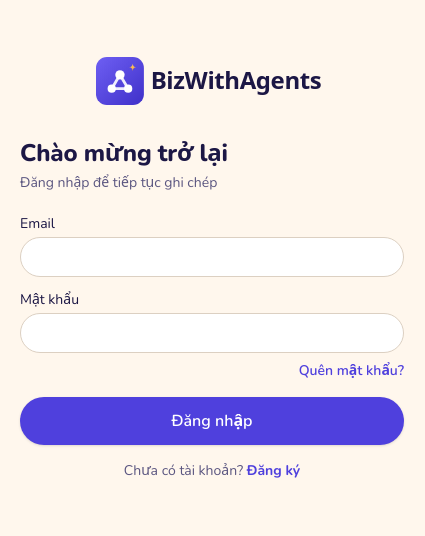
it: LoginPage › sai mật khẩu (2102) → thông điệp tiếng Việt + Mã tra cứu, ở lại trang
Type "u1@test.local" into the field labelled "Email". click: (212, 257)
box: top-left (20, 237), bottom-right (404, 277)
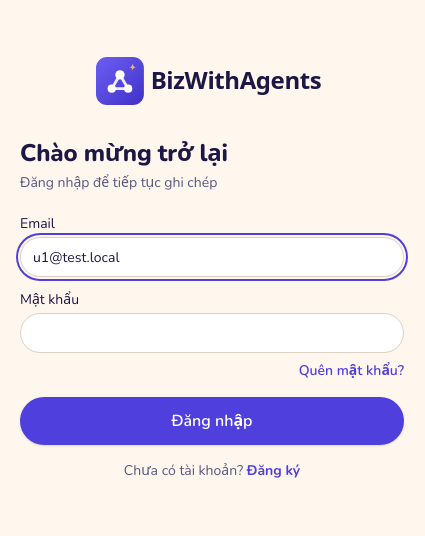
Type "sai-mat-khau" into the password field labelled "Mật khẩu". click: (212, 333)
box: top-left (20, 313), bottom-right (404, 353)
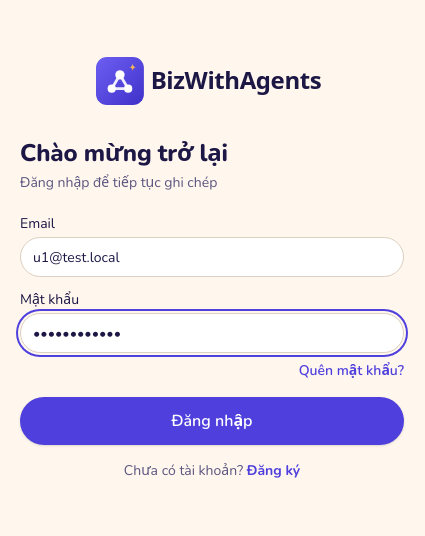
Click the button with test id "login-submit". click: (212, 421)
box: top-left (20, 397), bottom-right (404, 445)
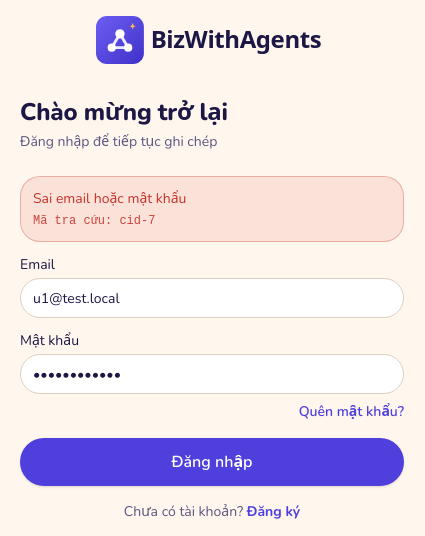
Expected: the message shows "Sai email hoặc mật khẩu", top-left (33, 189), bottom-right (186, 208)
Expected: the text with test id "error-cid" reads "Mã tra cứu: cid-7", top-left (33, 214), bottom-right (155, 228)
